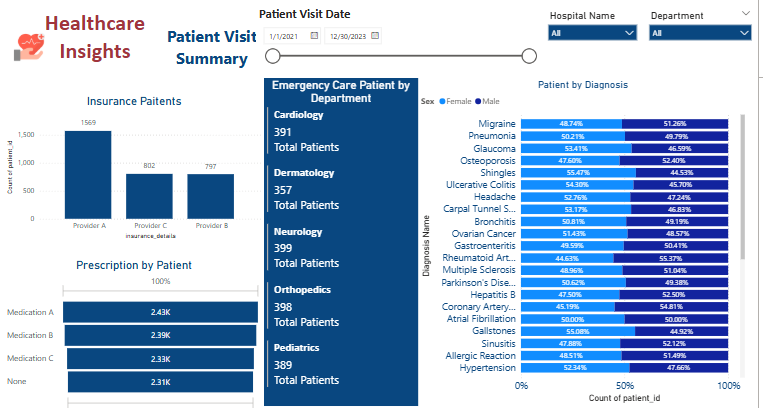

What the dashboard file says about the page in this screenshot:
{"tool":"powerbi","page":{"name":"Summary Report-2","canvas":[1280,720],"ordinal":1},"visuals":[{"type":"textbox","box":[70.6,20.2,191.5,136.1],"z":0},{"type":"image","box":[0,37,112.5,104.1],"z":1000},{"type":"textbox","box":[262.6,46.3,200.8,94.6],"z":2000},{"type":"slicer","title":"Patient Visit Date","fields":{"Values":["Healthcare data.Patient Visit Date"]},"box":[436.7,20.2,480.4,120.9],"z":3000},{"type":"slicer","fields":{"Values":["Healthcare data.department"]},"box":[1086.8,20.2,193.2,120.9],"z":5000},{"type":"slicer","fields":{"Values":["Healthcare data.Hospital Name"]},"box":[917.2,20.2,169.7,120.9],"z":6000},{"type":"columnChart","title":"Insurance Paitents","fields":{"Category":["Healthcare data.insurance_details"],"Y":["CountNonNull(Healthcare data.patient_id)"]},"box":[13.4,168,436.7,248.6],"z":7000},{"type":"funnel","title":"Prescription by Patient","fields":{"Y":["CountNonNull(Healthcare data.patient_id)"],"Category":["Healthcare data.prescription_details"]},"box":[13.4,443.5,436.7,277.2],"z":8000},{"type":"hundredPercentStackedBarChart","title":"Patient by Diagnosis ","fields":{"Category":["Healthcare data.Diagnosis Name"],"Y":["CountNonNull(Healthcare data.patient_id)"],"Series":["Healthcare data.Sex"]},"box":[708.9,141.1,554.3,551],"z":9000},{"type":"multiRowCard","title":"Emergency Care Patient by Department","fields":{"Values":["Healthcare data.department","CountNonNull(Healthcare data.patient_id)"]},"box":[450.2,141.1,258.7,551],"z":10000}]}

Visuals, with their boxes on the page's 1280x720 design canvas (x1, y1, x2, y2). These are canvas units, not pixel positions in the 763x408 screenshot, which may show the page scaled, cropped or inside an application window:
textbox: locate(71, 20, 262, 156)
image: locate(0, 37, 112, 141)
textbox: locate(263, 46, 463, 141)
"Patient Visit Date" slicer: locate(437, 20, 917, 141)
slicer - Healthcare data.department: locate(1087, 20, 1280, 141)
slicer - Healthcare data.Hospital Name: locate(917, 20, 1087, 141)
"Insurance Paitents" columnChart: locate(13, 168, 450, 417)
"Prescription by Patient" funnel: locate(13, 444, 450, 721)
"Patient by Diagnosis " hundredPercentStackedBarChart: locate(709, 141, 1263, 692)
"Emergency Care Patient by Department" multiRowCard: locate(450, 141, 709, 692)
